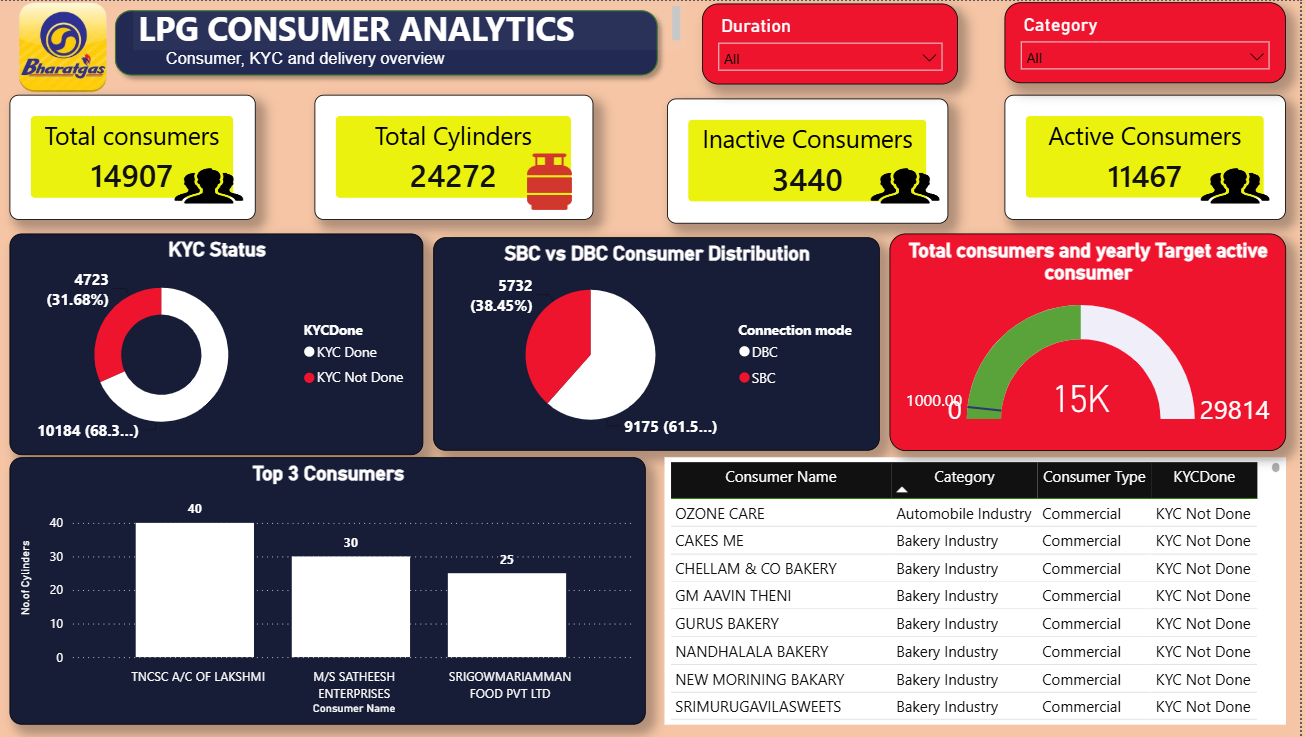

The dashboard page shown, as its layout file describes it:
{"tool":"powerbi","page":{"name":"Page 1","canvas":[1280,720],"ordinal":0},"visuals":[{"type":"donutChart","title":"KYC Status","fields":{"Category":["Sheet1.KYCDone"],"Y":["CountNonNull(Sheet1.KYCDone)"]},"box":[17.1,227.4,404.8,216.4],"z":0},{"type":"cardVisual","fields":{"Data":["Sheet1.Inactive Consumers"]},"box":[660.3,95.4,275.1,122.3],"z":1000},{"type":"cardVisual","fields":{"Data":["Sheet1.Active Consumers"]},"box":[990.5,91.7,275.1,122.3],"z":2000},{"type":"pieChart","title":"SBC vs DBC Consumer Distribution","fields":{"Category":["Sheet1.Connection mode"],"Y":["CountNonNull(Sheet1.Connection mode)"]},"box":[431.7,231.1,436.6,209.1],"z":3000},{"type":"cardVisual","fields":{"Data":["Sheet1.Total consumers"]},"box":[17.1,91.7,240.9,122.3],"z":4000},{"type":"image","box":[859.7,159,67.3,45.2],"z":5000},{"type":"image","box":[1182.5,159,67.3,45.2],"z":6000},{"type":"clusteredColumnChart","title":"Top 3 Consumers","fields":{"Category":["Sheet1.Consumer Name"],"Y":["Sum(Sheet1.No Of Cylinders)"]},"box":[17.1,446.3,622.4,261.7],"z":7000},{"type":"slicer","fields":{"Values":["Sheet1.Last Delivery Date.Variation.Date Hierarchy.Year","Sheet1.Last Delivery Date.Variation.Date Hierarchy.Quarter","Sheet1.Last Delivery Date.Variation.Date Hierarchy.Month","Sheet1.Last Delivery Date.Variation.Date Hierarchy.Day"]},"box":[694.6,2.4,250.7,79.5],"z":8000},{"type":"cardVisual","fields":{"Data":["Sheet1.Total Cylinders"]},"box":[315.5,91.7,272.7,122.3],"z":9000},{"type":"slicer","fields":{"Values":["Sheet1.Category"]},"box":[990.5,1.2,275.1,79.5],"z":10000},{"type":"shape","box":[111.3,0,549.1,81.9],"z":12000},{"type":"textbox","box":[138.2,0,540.5,47.7],"z":13000},{"type":"tableEx","fields":{"Values":["Sheet1.Consumer Name","Sheet1.Category","Sheet1.Consumer Type","Sheet1.KYCDone"]},"box":[657.9,446.3,607.7,261.7],"z":14000},{"type":"gauge","fields":{"Y":["Sheet1.Total consumers"],"TargetValue":["Sheet1.yearly Target active consumer"]},"box":[878,227.4,387.6,212.8],"z":15000},{"type":"image","box":[0,0,138.2,91.7],"z":16000},{"type":"image","box":[523.4,149.2,44,55],"z":17000},{"type":"image","box":[178.5,159,67.3,45.2],"z":18000},{"type":"textbox","box":[165.1,42.8,344.8,34.2],"z":19000}]}

Visuals, with their boxes in screenshot pixels (x1, y1, x2, y2), scaled from the page's 1280x720 canvas onto the 1305x737 screenshot:
"KYC Status" donutChart: x1=17 y1=233 x2=430 y2=454
cardVisual - Sheet1.Inactive Consumers: x1=673 y1=98 x2=954 y2=223
cardVisual - Sheet1.Active Consumers: x1=1010 y1=94 x2=1290 y2=219
"SBC vs DBC Consumer Distribution" pieChart: x1=440 y1=237 x2=885 y2=451
cardVisual - Sheet1.Total consumers: x1=17 y1=94 x2=263 y2=219
image: x1=876 y1=163 x2=945 y2=209
image: x1=1206 y1=163 x2=1274 y2=209
"Top 3 Consumers" clusteredColumnChart: x1=17 y1=457 x2=652 y2=725
slicer - Sheet1.Last Delivery Date.Variation.Date Hierarchy.Year x Sheet1.Last Delivery Date.Variation.Date Hierarchy.Quarter: x1=708 y1=2 x2=964 y2=84
cardVisual - Sheet1.Total Cylinders: x1=322 y1=94 x2=600 y2=219
slicer - Sheet1.Category: x1=1010 y1=1 x2=1290 y2=83
shape: x1=113 y1=0 x2=673 y2=84
textbox: x1=141 y1=0 x2=692 y2=49
tableEx - Sheet1.Consumer Name x Sheet1.Category: x1=671 y1=457 x2=1290 y2=725
gauge - Sheet1.Total consumers x Sheet1.yearly Target active consumer: x1=895 y1=233 x2=1290 y2=451
image: x1=0 y1=0 x2=141 y2=94
image: x1=534 y1=153 x2=578 y2=209
image: x1=182 y1=163 x2=251 y2=209
textbox: x1=168 y1=44 x2=520 y2=79
